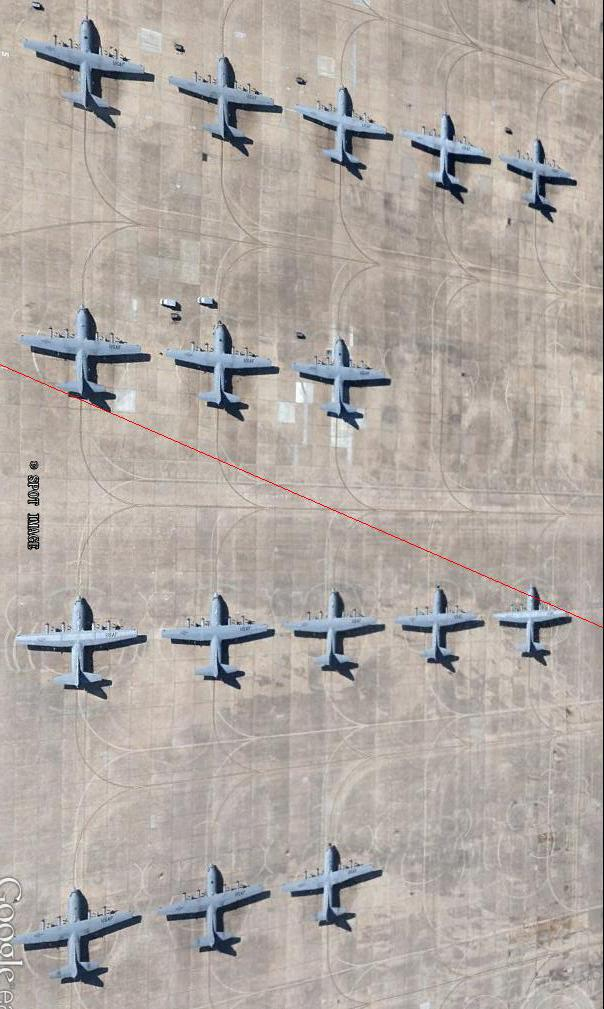C-130: (18, 888, 145, 988), (27, 16, 147, 120), (15, 600, 140, 695), (26, 306, 144, 404), (171, 52, 282, 146), (170, 321, 279, 413), (166, 595, 275, 686), (161, 866, 267, 957), (292, 337, 392, 425), (285, 841, 378, 933), (300, 89, 393, 173), (290, 590, 380, 672), (401, 585, 487, 663), (408, 111, 492, 189), (493, 584, 573, 660), (505, 139, 578, 214)
